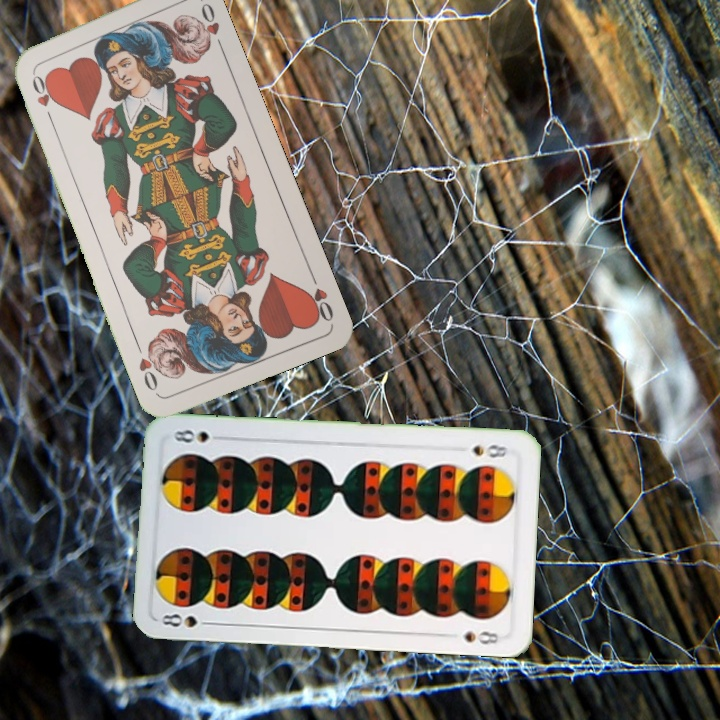HO: (302, 268, 336, 325), (28, 67, 56, 124)
S8: (157, 610, 216, 630), (469, 440, 511, 461)
